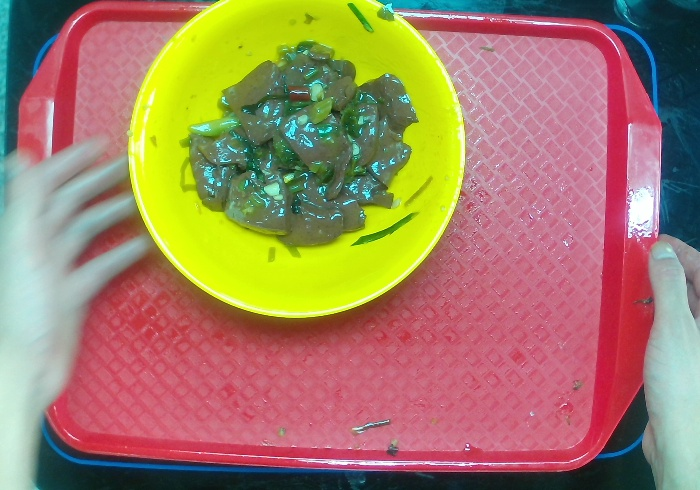YKMZ-Huang_Se_Tang_Wan: (122, 1, 472, 323)
